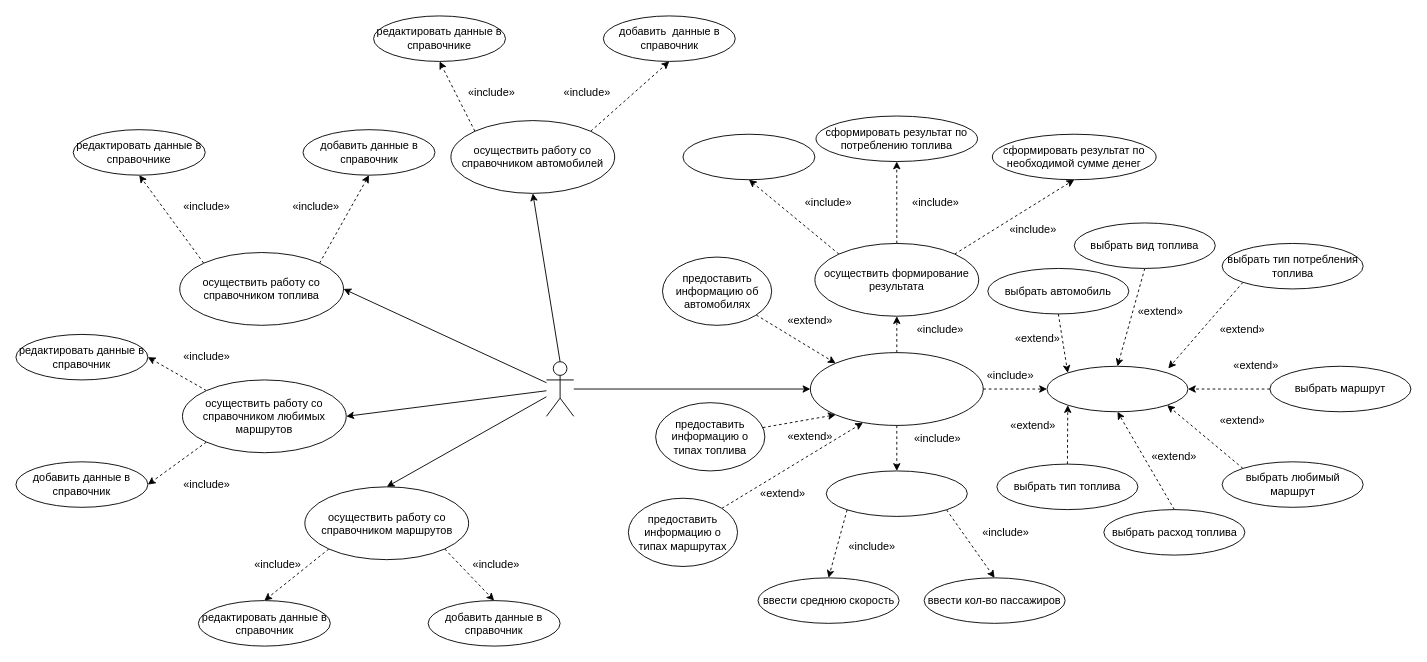
This 1427x662 diagram has some shape labels left out. The shapes that lost their labels are listed below. From the top down, each one's centre as x and y in pixels, then its label:
At [748,156]: "сформировать результат по времени в пути".
At [560,388]: "пользователь".
At [896,388]: "рассчитать стоимость поездки".
At [1117,388]: "выбрать данные".
At [896,493]: "ввести данные".
